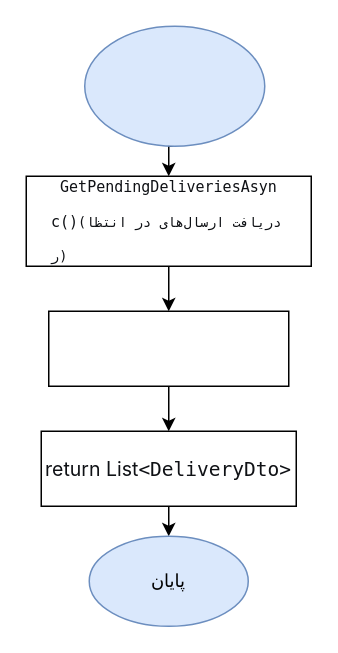
This 338x653 diagram has some shape labels left out. The box of each missing label's shape, as (x1, y1, x2, y2) in pixels:
Select(MapToDto).ToList(): (47, 310, 289, 386)
شروع GetPendingDeliveryDtosAsync: (83, 25, 265, 146)
